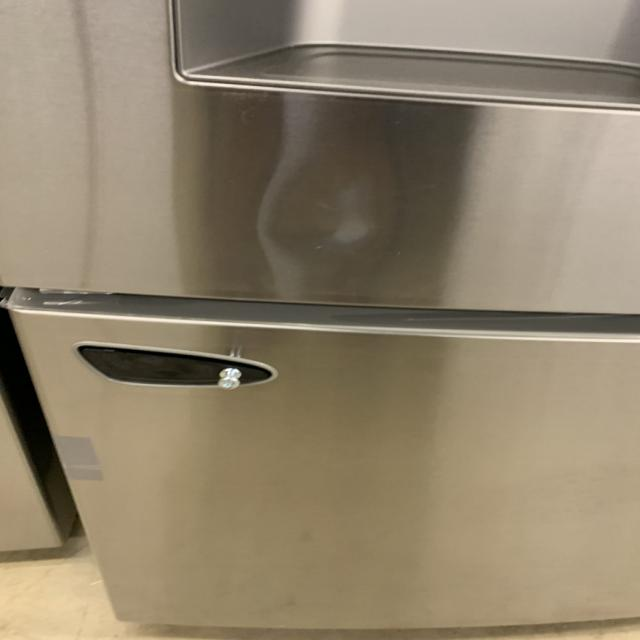dents: (254, 131, 430, 294)
